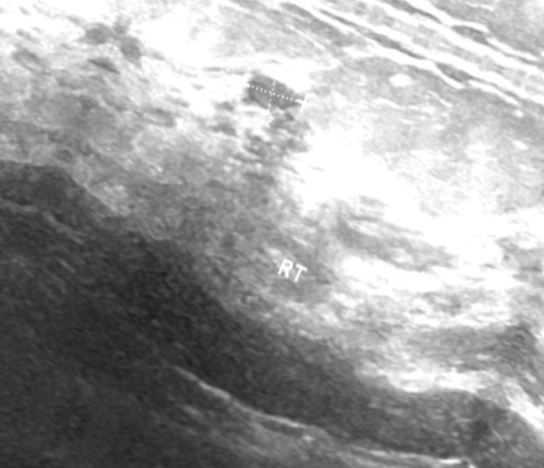Benign: (241, 69, 303, 141)
